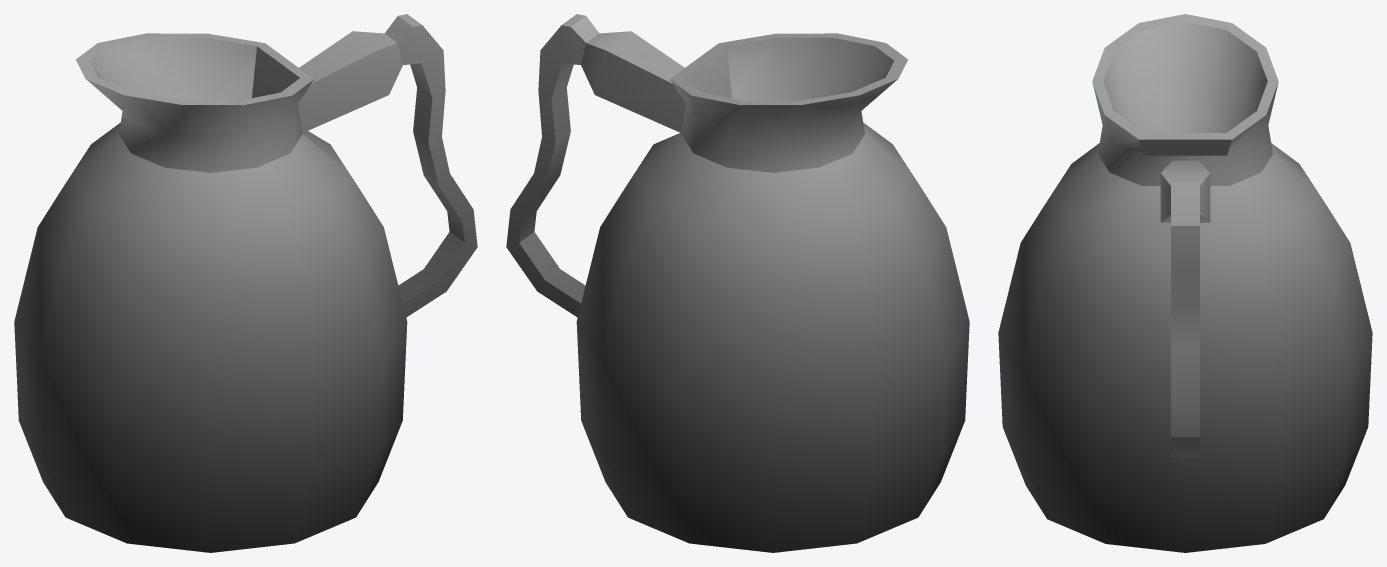
The model's file is CoffeeMakerCreamJug.fbx.
The picture shows the model from 3 angles, left to right: view 1: azimuth 30°, elevation 25°; view 2: azimuth 150°, elevation 25°; view 3: azimuth 270°, elevation 25°; orthographic projection. The views are drawn at different scales.
Parts seen in each view (by area): view 1: CoffeeMakerCreamJug; view 2: CoffeeMakerCreamJug; view 3: CoffeeMakerCreamJug.
Part boxes in pixels (x1,y1,x2,y2): CoffeeMakerCreamJug: [14, 14, 477, 552]; CoffeeMakerCreamJug: [506, 14, 969, 552]; CoffeeMakerCreamJug: [998, 14, 1372, 552].
Size of the model in its own units: 12.27 by 12.29 by 9.72.
